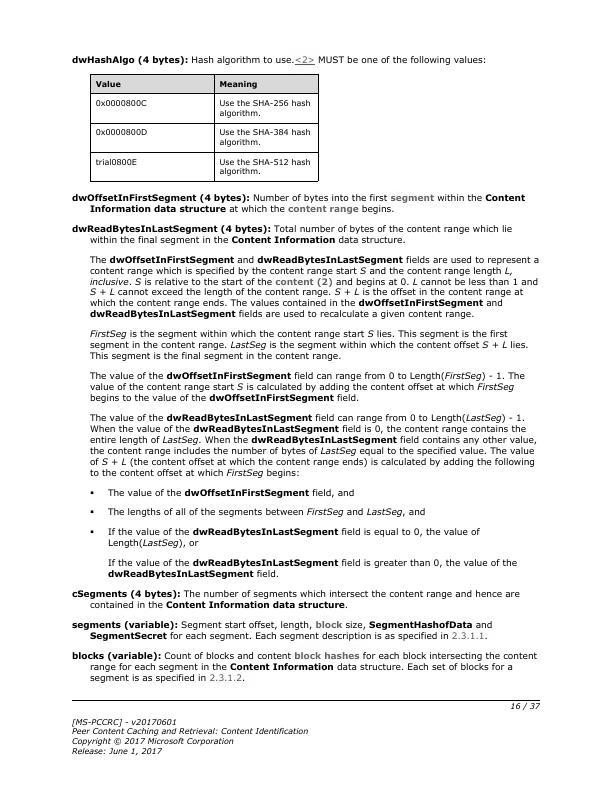table: (88, 73, 321, 184)
text: (87, 252, 540, 321), (86, 411, 537, 479), (87, 368, 529, 404), (68, 651, 539, 684), (88, 327, 530, 361), (68, 222, 514, 246), (67, 192, 527, 215), (103, 556, 520, 581), (68, 587, 520, 610), (68, 619, 497, 642), (67, 715, 311, 755), (103, 524, 482, 549), (68, 54, 489, 68), (103, 505, 429, 519), (103, 485, 359, 499)
